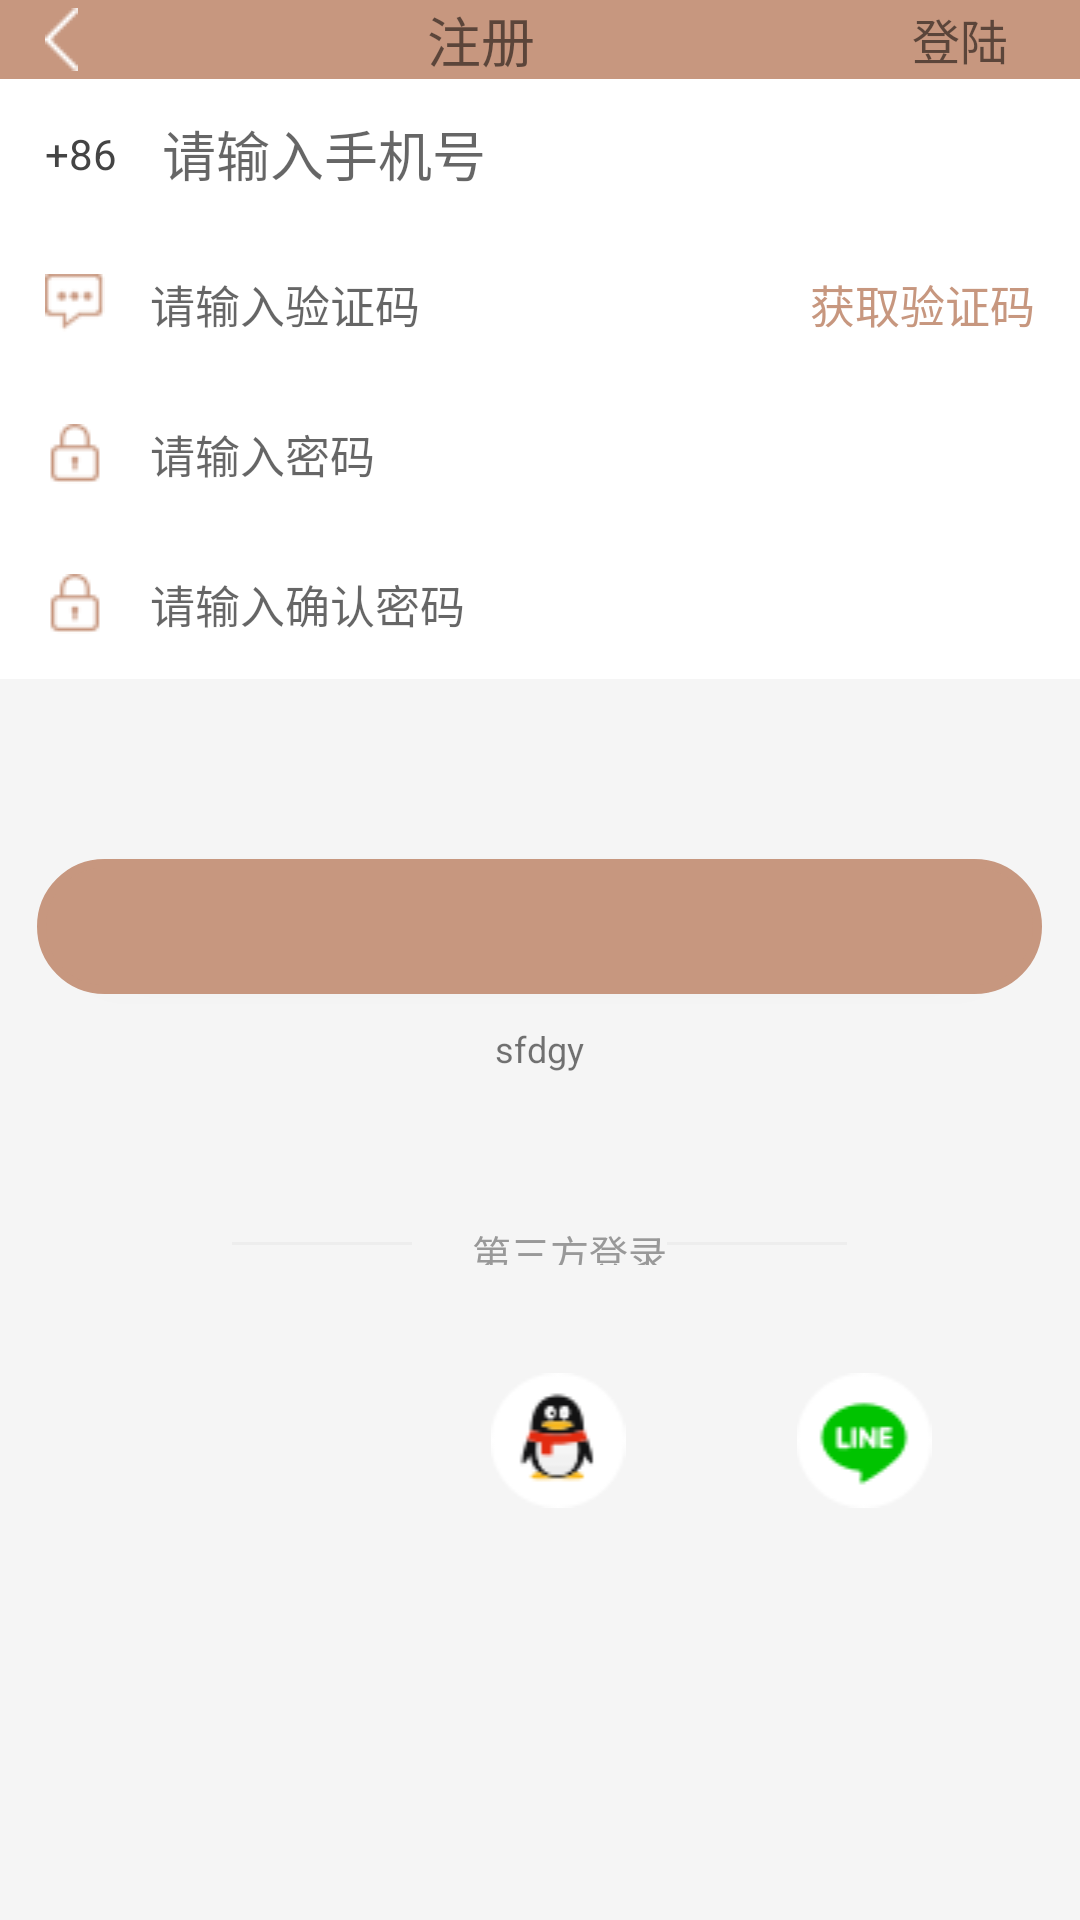

Named icons in this screenshot (1080px x 1920px) and their bounding boxes, (left=x1, top=y1, right=x2, bottom=y2):
back: (left=45, top=8, right=78, bottom=71)
